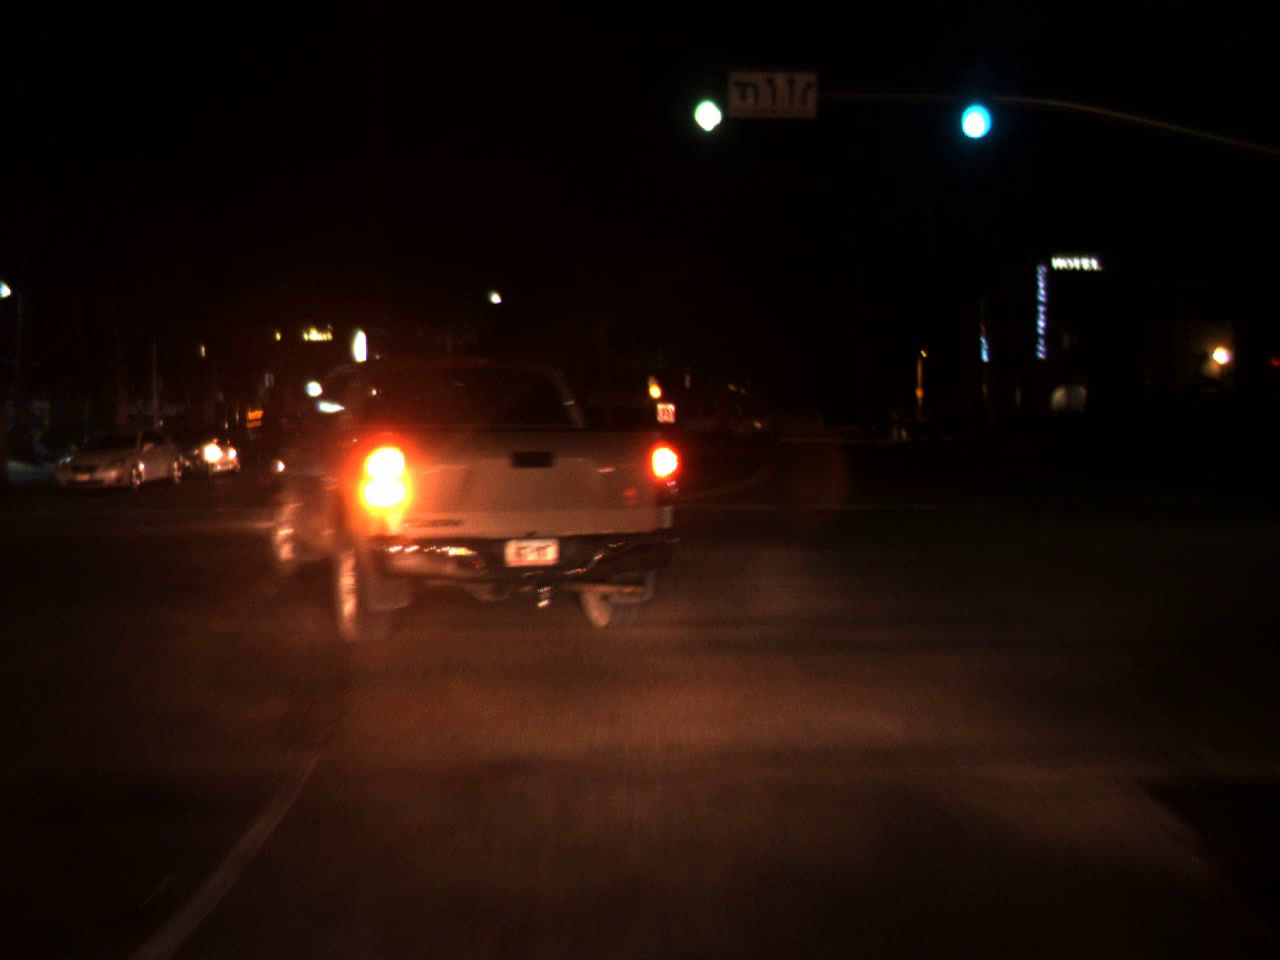go: (948, 68, 994, 152), (683, 61, 728, 144)
